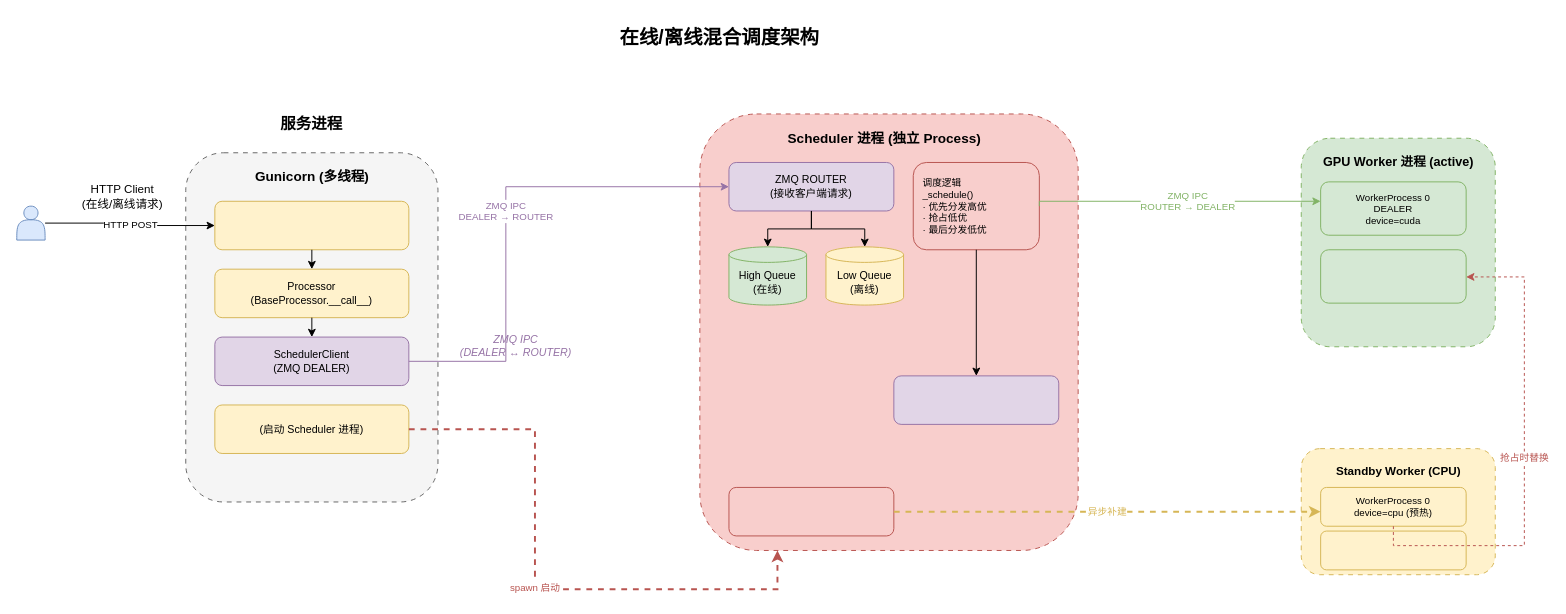
Some shapes in this 1566 by 614 pixel diagram are drawn without their labels. Here are the shapes that lost their labels. From the top down, the centre of each, then its label:
At (x=311, y=225): "Flask App (/api/process)".
At (x=1393, y=276): "WorkerProcess 1 DEALER device=cuda".
At (x=976, y=399): "ZMQ ROUTER (派发/收结果)".
At (x=811, y=511): "ProcessManager (Thread) 异步补建 standby worker".
At (x=1393, y=550): "WorkerProcess 1 device=cpu (预热)".
